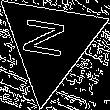N_E: (23, 19, 76, 66)
